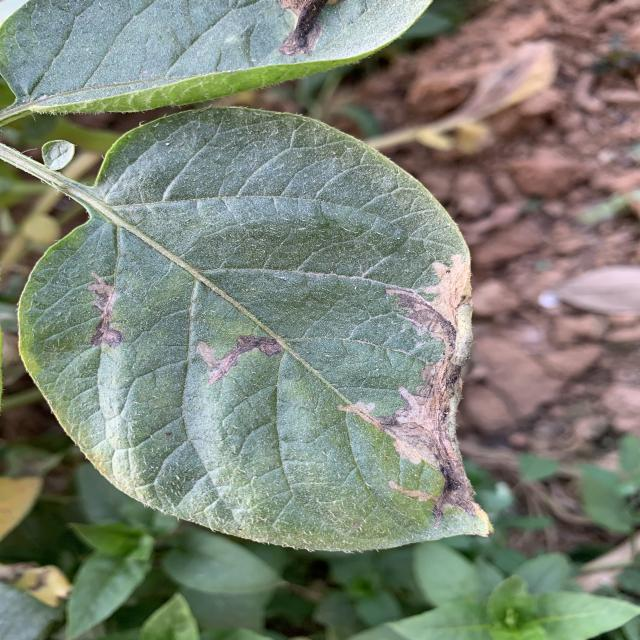lateblight: (378, 255, 478, 519), (197, 335, 282, 371), (87, 272, 123, 348)
